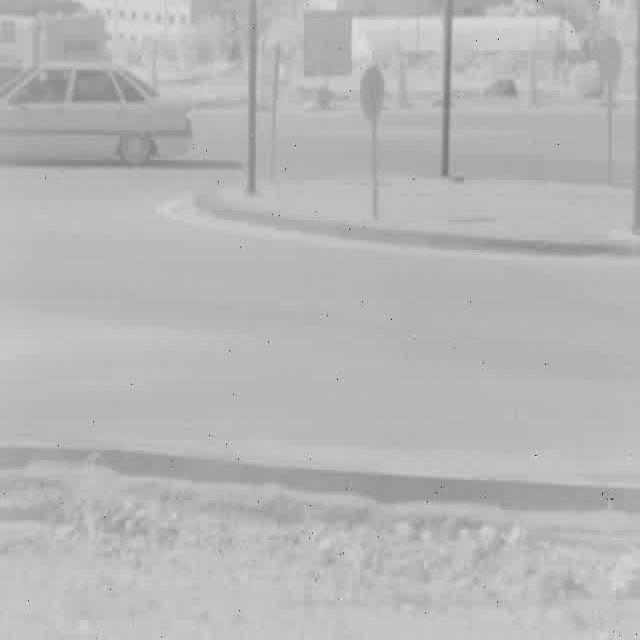Car: (0, 64, 190, 170)
